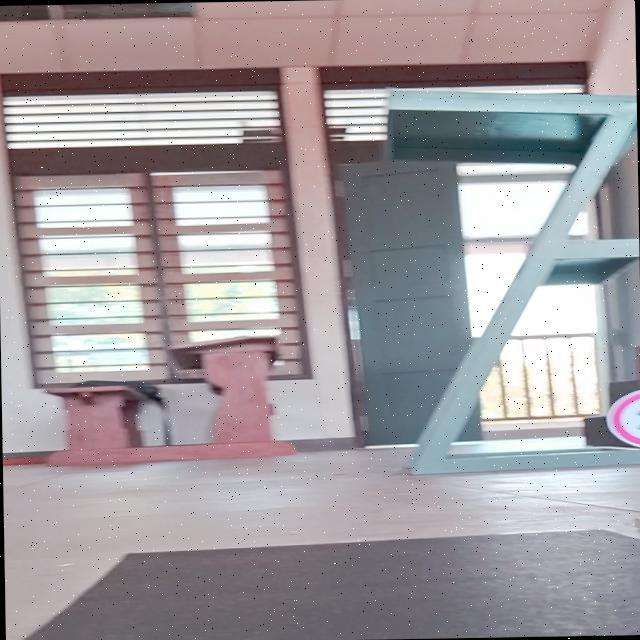Speed20: (599, 383, 640, 451)
